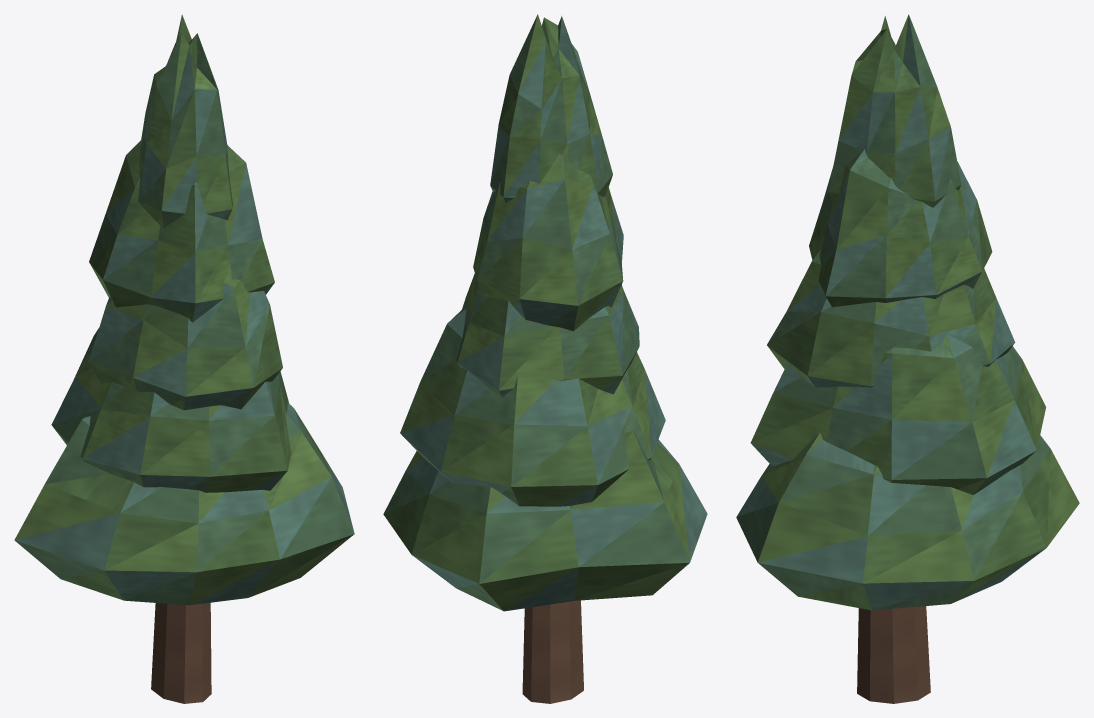
Rendered from tree_pine_01.fbx.
The picture shows the model from 3 angles, left to right: view 1: azimuth 30°, elevation 25°; view 2: azimuth 150°, elevation 25°; view 3: azimuth 270°, elevation 25°; orthographic projection. The views are drawn at different scales.
Visible parts, largest first — view 1: tree_pine_01; view 2: tree_pine_01; view 3: tree_pine_01.
Boxes of the visible parts, <box> form: tree_pine_01: <box>14,14,354,703</box>; tree_pine_01: <box>383,14,707,703</box>; tree_pine_01: <box>736,14,1079,703</box>.
Size of the model in its own units: 428 by 920 by 420.
1 material, 1 textured.
